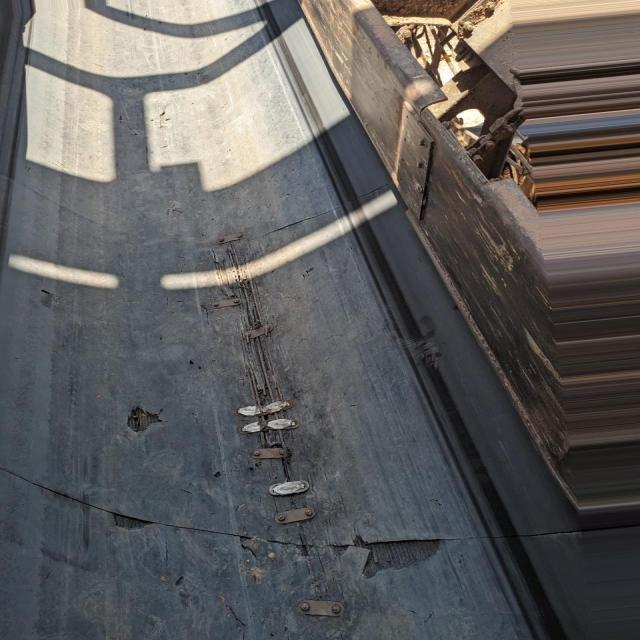Tear: (5, 468, 474, 583), (253, 204, 334, 240), (120, 397, 172, 436), (25, 283, 57, 315)
patch work: (198, 226, 325, 532), (268, 567, 351, 640)
